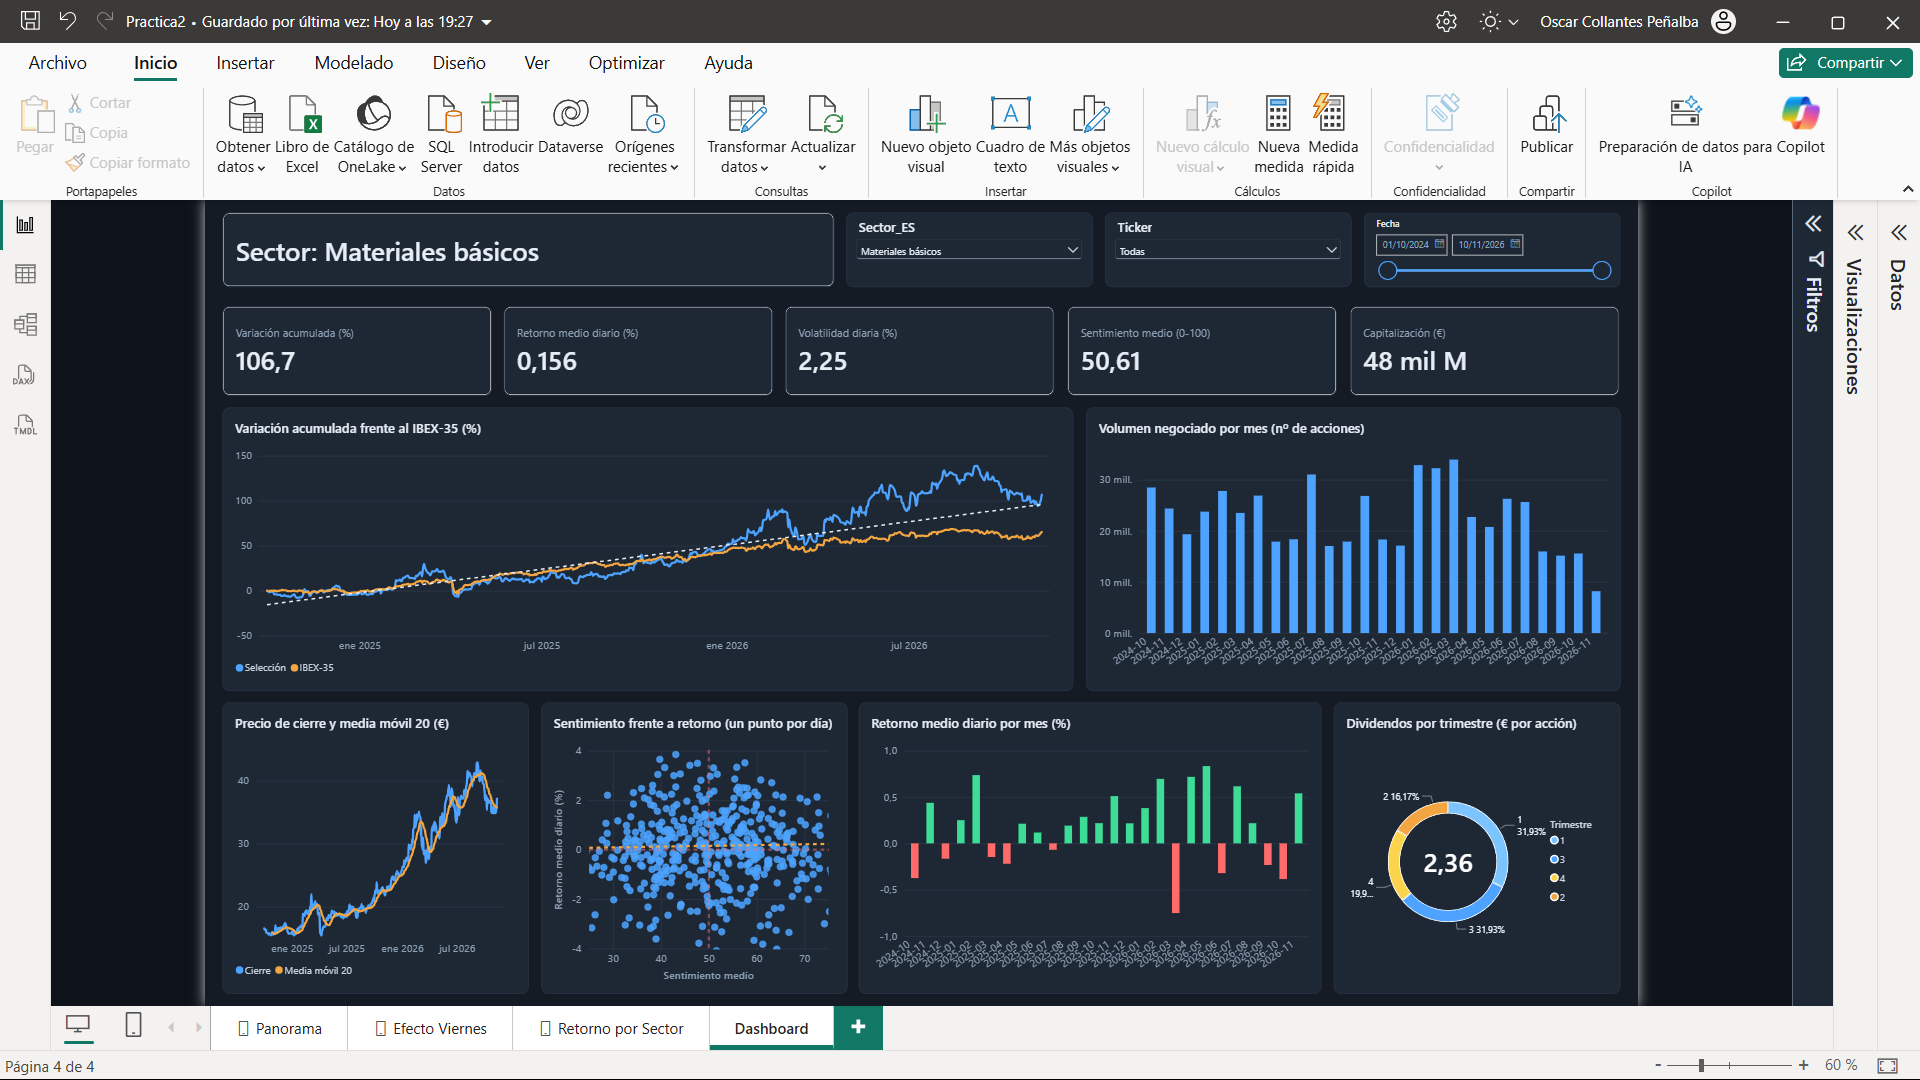

What the dashboard file says about the page in this screenshot:
{"tool":"powerbi","page":{"name":"Dashboard","canvas":[1920,1080],"ordinal":3},"visuals":[{"type":"slicer","fields":{"Values":["Empresa.Sector_ES"]},"box":[753.5,31.4,280.8,68],"z":0},{"type":"slicer","fields":{"Values":["Empresa.Ticker"]},"box":[1055.2,26.2,280.8,80.2],"z":1000},{"type":"slicer","fields":{"Values":["Fecha.Fecha"]},"box":[1360.5,19.2,280.8,95.9],"z":2000},{"type":"cardVisual","fields":{"Data":["Hechos.Variacion Acumulada"]},"box":[36.6,115.1,218,174.4],"z":3000},{"type":"cardVisual","fields":{"Data":["Hechos.Retorno Medio Diario"]},"box":[375,115.1,218,174.4],"z":4000},{"type":"cardVisual","fields":{"Data":["Hechos.Volatilidad Diaria"]},"box":[741.3,115.1,218,174.4],"z":5000},{"type":"cardVisual","fields":{"Data":["Hechos.Sentimiento Medio"]},"box":[1088.4,115.1,218,174.4],"z":6000},{"type":"cardVisual","fields":{"Data":["Hechos.Capitalizacion Total"]},"box":[1447.7,115.1,218,174.4],"z":7000},{"type":"lineChart","fields":{"Category":["Fecha.Fecha"],"Y":["Hechos.Var Acum Seleccion","Hechos.Var Acum IBEX"]},"box":[43.6,314,1058.7,376.7],"z":8000},{"type":"clusteredColumnChart","fields":{"Category":["Fecha.AnioMes"],"Y":["Sum(Hechos.Volume)"]},"box":[1133.7,314,736,376.7],"z":9000},{"type":"lineChart","fields":{"Category":["Fecha.Fecha"],"Y":["Avg(Hechos.Close)","Avg(Hechos.Media_Movil_20)"]},"box":[66.3,711.6,395.9,322.7],"z":10000},{"type":"scatterChart","fields":{"Category":["Fecha.Fecha"],"X":["Hechos.Sentimiento Medio"],"Y":["Hechos.Retorno Medio Diario"]},"box":[462.2,711.6,444.8,322.7],"z":11000},{"type":"clusteredColumnChart","fields":{"Category":["Fecha.AnioMes"],"Y":["Hechos.Retorno Medio Diario"]},"box":[907,711.6,610.5,322.7],"z":12000},{"type":"donutChart","fields":{"Category":["Fecha.Trimestre"],"Y":["Sum(Hechos.Dividends)"]},"box":[1517.4,711.6,385.5,322.7],"z":13000},{"type":"cardVisual","fields":{"Data":["Hechos.Titulo Dashboard"]},"box":[66.3,19.2,556.4,75],"z":13001}]}

Visuals, with their boxes on the page's 1920x1080 design canvas (x1, y1, x2, y2). These are canvas units, not pixel positions in the 1920x1080 screenshot, which may show the page scaled, cropped or inside an application window:
slicer - Empresa.Sector_ES: [754,31,1034,99]
slicer - Empresa.Ticker: [1055,26,1336,106]
slicer - Fecha.Fecha: [1360,19,1641,115]
cardVisual - Hechos.Variacion Acumulada: [37,115,255,290]
cardVisual - Hechos.Retorno Medio Diario: [375,115,593,290]
cardVisual - Hechos.Volatilidad Diaria: [741,115,959,290]
cardVisual - Hechos.Sentimiento Medio: [1088,115,1306,290]
cardVisual - Hechos.Capitalizacion Total: [1448,115,1666,290]
lineChart - Fecha.Fecha x Hechos.Var Acum Seleccion: [44,314,1102,691]
clusteredColumnChart - Fecha.AnioMes x Sum(Hechos.Volume): [1134,314,1870,691]
lineChart - Fecha.Fecha x Avg(Hechos.Close): [66,712,462,1034]
scatterChart - Fecha.Fecha x Hechos.Sentimiento Medio: [462,712,907,1034]
clusteredColumnChart - Fecha.AnioMes x Hechos.Retorno Medio Diario: [907,712,1518,1034]
donutChart - Fecha.Trimestre x Sum(Hechos.Dividends): [1517,712,1903,1034]
cardVisual - Hechos.Titulo Dashboard: [66,19,623,94]
